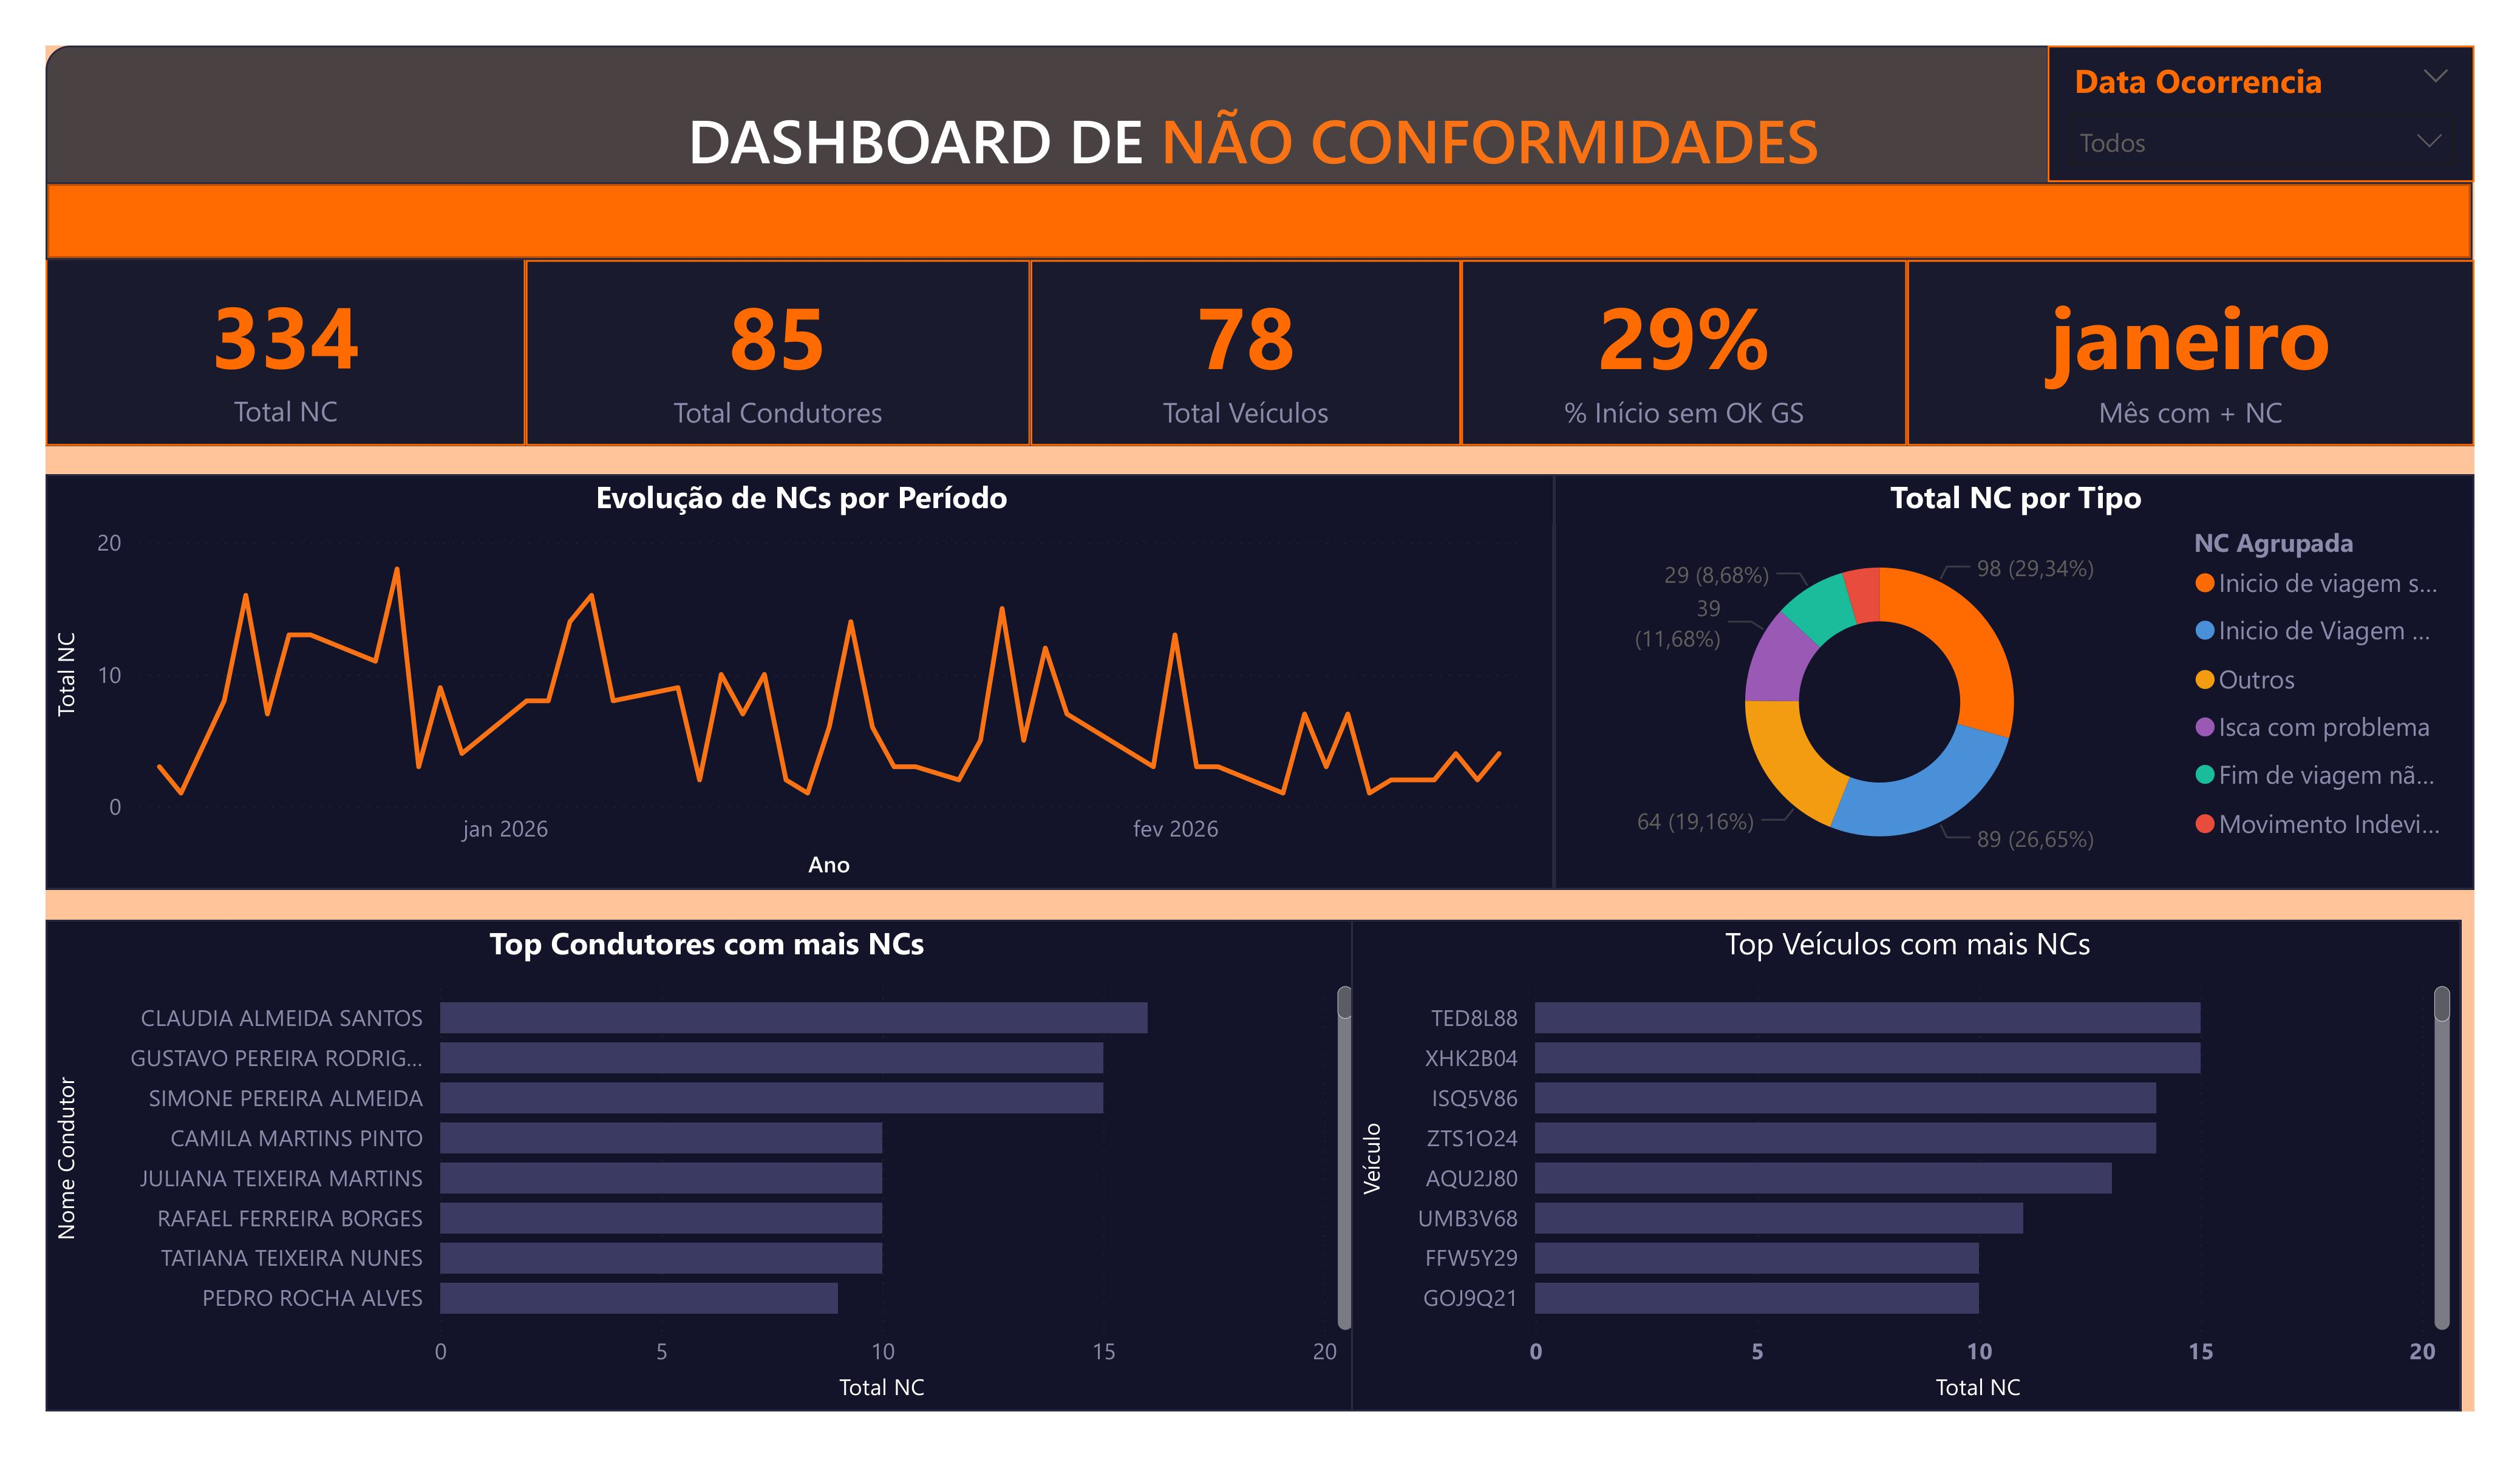

What the dashboard file says about the page in this screenshot:
{"tool":"powerbi","page":{"name":"NC por Condutor","canvas":[1280,720],"ordinal":0},"visuals":[{"type":"card","fields":{"Values":["RelatorioNaoConformidades (2).Total NC"]},"box":[0,111.7,252.5,98.9],"z":0},{"type":"barChart","title":"Top Condutores com mais NCs","fields":{"Category":["RelatorioNaoConformidades (2).Nome Condutor"],"Y":["RelatorioNaoConformidades (2).Total NC"]},"box":[0,460.8,694.7,259.5],"z":1000},{"type":"barChart","title":"Top Veículos com mais NCs","fields":{"Category":["RelatorioNaoConformidades (2).Veículo"],"Y":["RelatorioNaoConformidades (2).Total NC"]},"box":[687.7,460.8,585.3,259.5],"z":2000},{"type":"lineChart","title":"Evolução de NCs por Período","fields":{"Y":["RelatorioNaoConformidades (2).Total NC"],"Category":["RelatorioNaoConformidades (2).Data Ocorrencia.Variation.Hierarquia de datas.Ano","RelatorioNaoConformidades (2).Data Ocorrencia.Variation.Hierarquia de datas.Mês","RelatorioNaoConformidades (2).Data Ocorrencia.Variation.Hierarquia de datas.Dia"]},"box":[0,225.7,794.8,218.8],"z":3000},{"type":"donutChart","title":"Total NC por Tipo","fields":{"Category":["RelatorioNaoConformidades (2).NC Agrupada"],"Y":["CountNonNull(RelatorioNaoConformidades (2).Viagem)"]},"box":[795.2,225.7,485,218.8],"z":4000},{"type":"card","fields":{"Values":["RelatorioNaoConformidades (2).Total Condutores"]},"box":[252.5,112.9,266.5,97.7],"z":5000},{"type":"card","fields":{"Values":["RelatorioNaoConformidades (2).Total Veículos"]},"box":[519,112.9,226.9,97.7],"z":6000},{"type":"textbox","box":[0,0,1273.3,113.4],"z":7000},{"type":"card","fields":{"Values":["RelatorioNaoConformidades (2).% Início sem OK GS"]},"box":[745.9,112.9,235.1,97.7],"z":8000},{"type":"card","fields":{"Values":["RelatorioNaoConformidades (2).Mês com + NC"]},"box":[980.9,112.9,299.1,97.7],"z":9000},{"type":"shape","box":[0,71.8,1279.1,41.7],"z":10000},{"type":"slicer","fields":{"Values":["RelatorioNaoConformidades (2).Data Ocorrencia"]},"box":[1054.5,0,225.7,71.8],"z":10001}]}

Visuals, with their boxes in screenshot pixels (x1, y1, x2, y2):
card - RelatorioNaoConformidades (2).Total NC: detection(39, 255, 513, 440)
"Top Condutores com mais NCs" barChart: detection(39, 909, 1340, 1394)
"Top Veículos com mais NCs" barChart: detection(1327, 909, 2423, 1394)
"Evolução de NCs por Período" lineChart: detection(39, 469, 1528, 878)
"Total NC por Tipo" donutChart: detection(1528, 469, 2437, 878)
card - RelatorioNaoConformidades (2).Total Condutores: detection(513, 257, 1011, 440)
card - RelatorioNaoConformidades (2).Total Veículos: detection(1011, 257, 1436, 440)
textbox: detection(39, 46, 2424, 258)
card - RelatorioNaoConformidades (2).% Início sem OK GS: detection(1436, 257, 1876, 440)
card - RelatorioNaoConformidades (2).Mês com + NC: detection(1876, 257, 2436, 440)
shape: detection(39, 180, 2435, 259)
slicer - RelatorioNaoConformidades (2).Data Ocorrencia: detection(2014, 46, 2437, 180)
